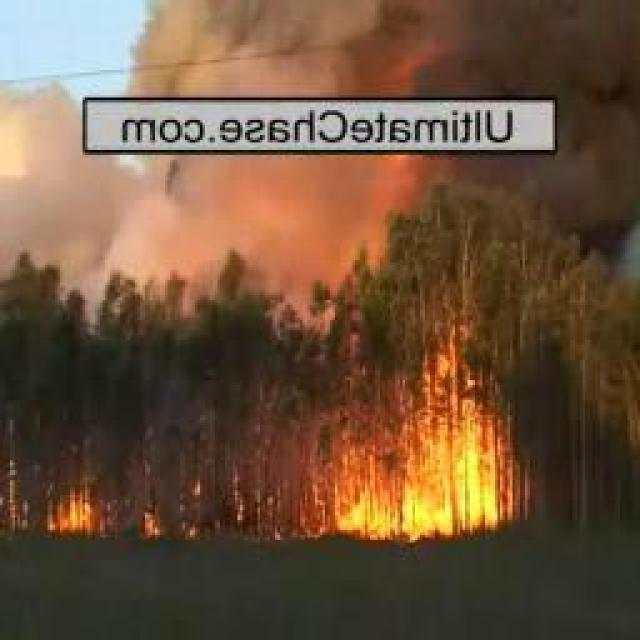Fire: (330, 387, 516, 545), (45, 487, 102, 535), (266, 482, 313, 537), (6, 464, 17, 530), (146, 513, 166, 535)
